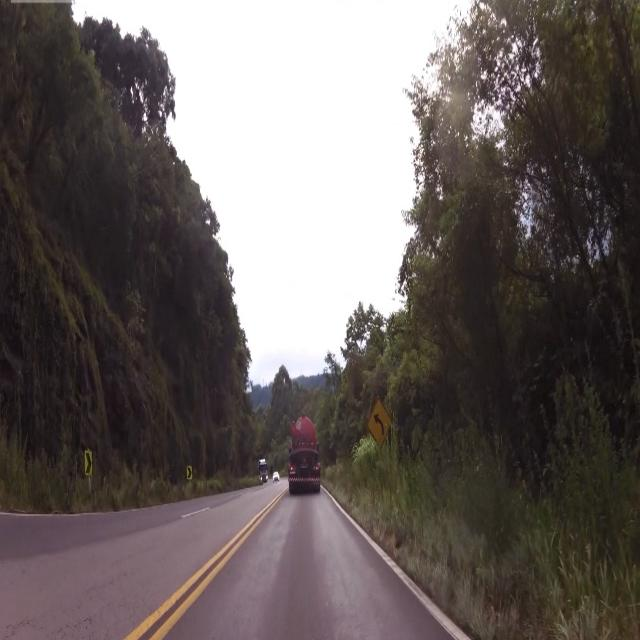A-2a: (366, 395, 396, 455)
